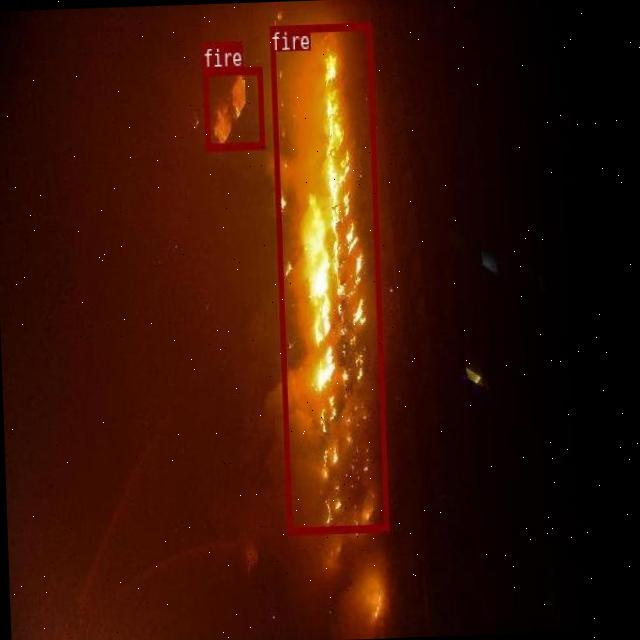fire: (268, 21, 388, 532), (202, 66, 263, 149)
